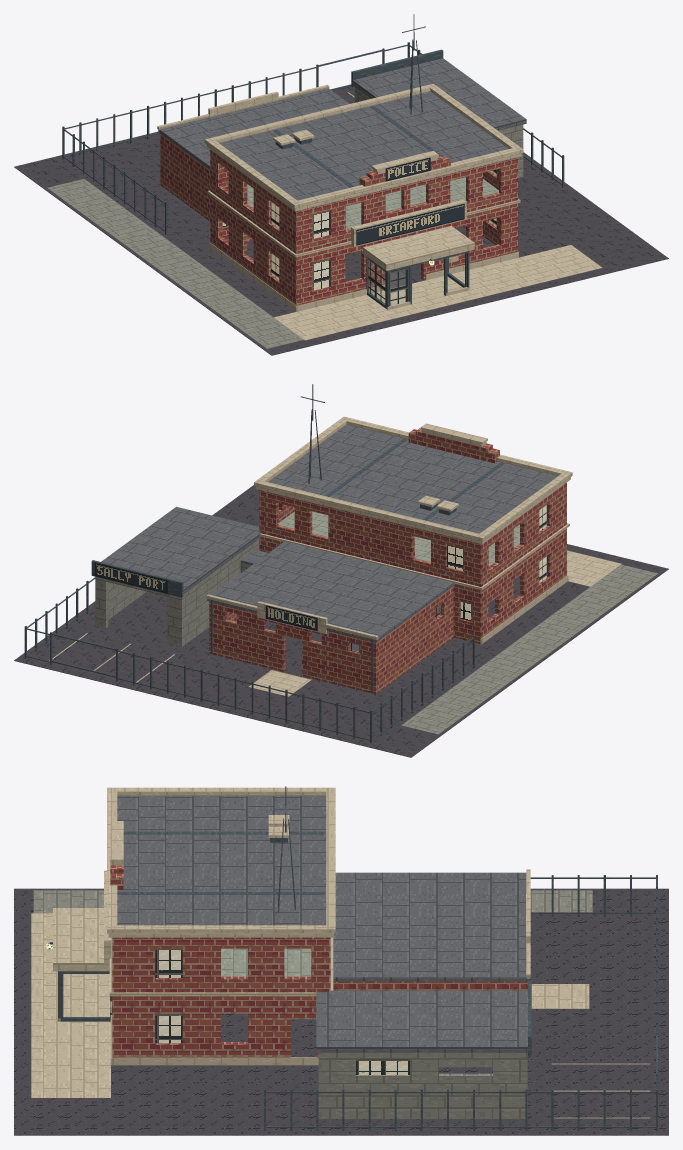
File: briarford-1980-far.glb
The picture shows the model from 3 angles, top to bottom: view 1: azimuth 30°, elevation 25°; view 2: azimuth 150°, elevation 25°; view 3: azimuth 270°, elevation 25°; orthographic projection. The views are drawn at different scales.
Visible parts, largest first — view 1: shell, lot, yard_fence, sign_name; view 2: shell, lot, yard_fence; view 3: shell, lot, yard_fence.
Boxes of the visible parts, x1,y1,x2,y2 form: shell: (157,49,526,311); lot: (14,86,668,355); yard_fence: (62,42,564,234); sign_name: (356,203,464,245); shell: (91,416,572,694); lot: (14,485,668,757); yard_fence: (24,577,474,743); shell: (46,787,531,1118); lot: (14,888,668,1135); yard_fence: (264,875,657,1130).
Size of the model in its own units: 26.7 by 13 by 30.
Materials: 11 (11 with a texture image).
